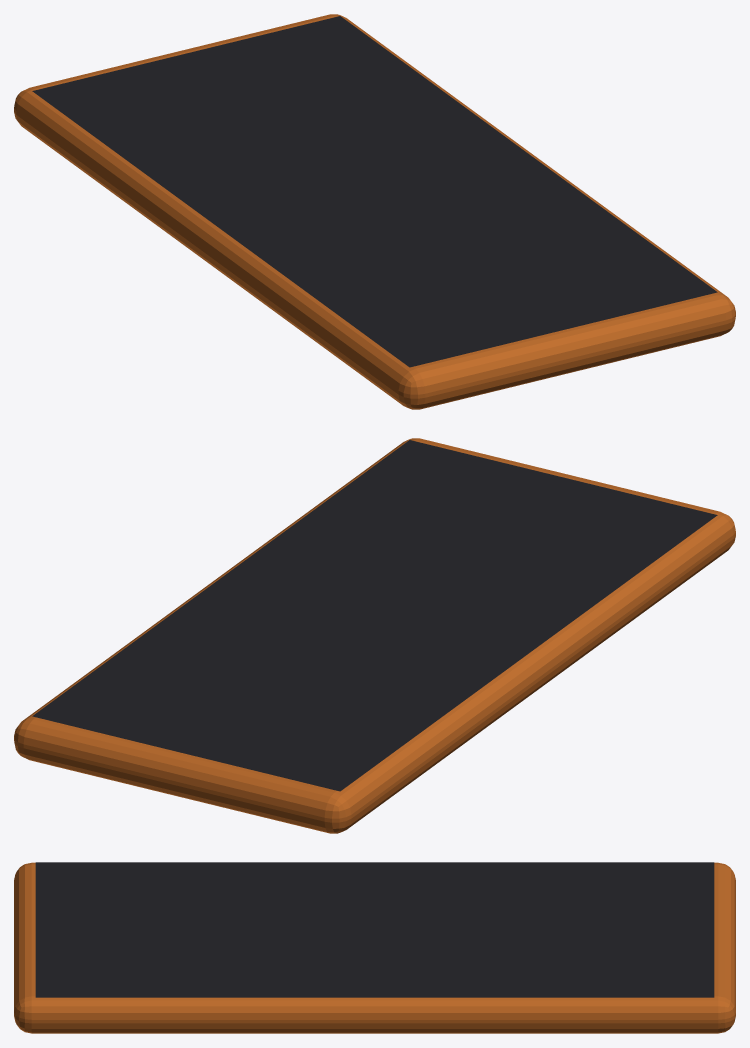
The model's file is vivo-x-model-30-flagship-2024.glb.
3 views of the same model, one above another, from view 1: azimuth 30°, elevation 25°; view 2: azimuth 150°, elevation 25°; view 3: azimuth 270°, elevation 25° (orthographic). The views are drawn at different scales.
Visible parts, largest first — view 1: Phone_Screen, Phone_Body; view 2: Phone_Screen, Phone_Body; view 3: Phone_Screen, Phone_Body.
Boxes of the visible parts, <box> form: Phone_Screen: <box>32,16,717,367</box>; Phone_Body: <box>14,14,735,409</box>; Phone_Screen: <box>32,440,717,791</box>; Phone_Body: <box>14,438,735,833</box>; Phone_Screen: <box>35,862,714,997</box>; Phone_Body: <box>14,862,735,1033</box>.
Size of the model in its own units: 0.0789 by 0.009 by 0.1639.
